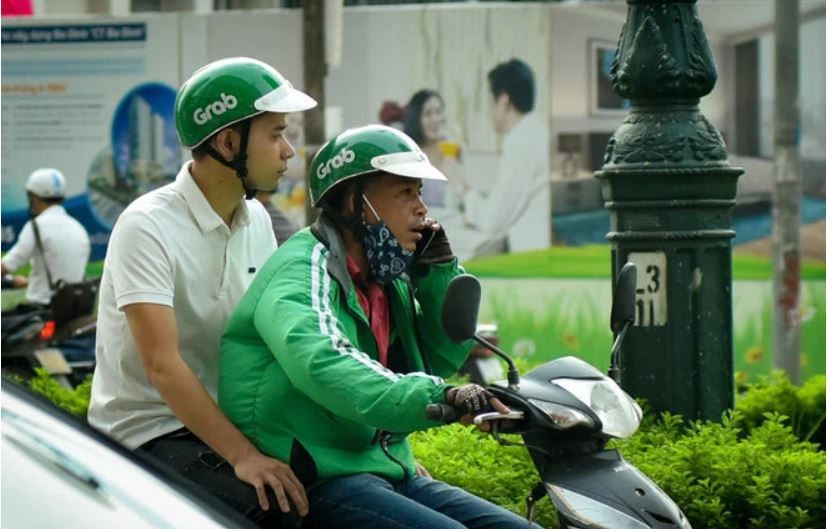dieu khien xe may: (299, 124, 688, 529)
su dung dien thoai: (311, 125, 450, 288)
